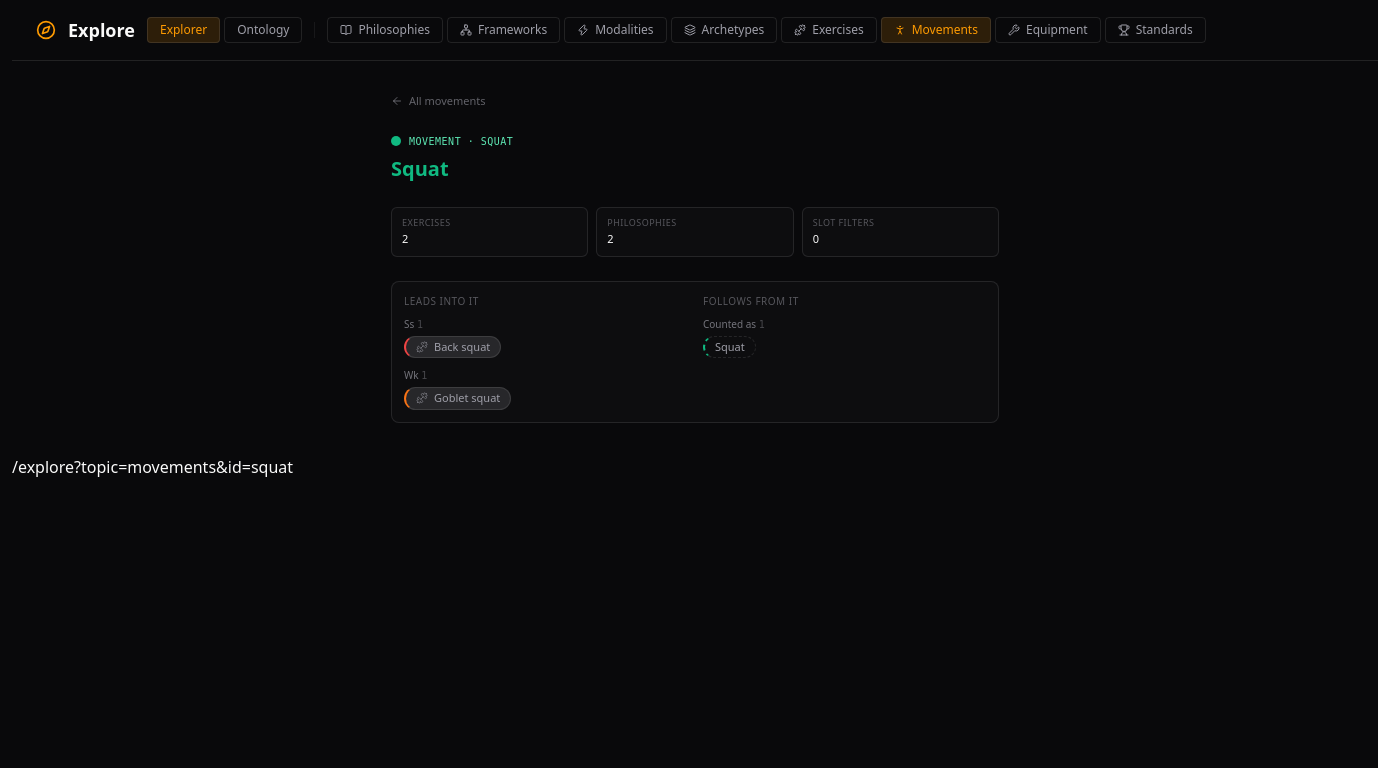
Test: Explore › opens a movement from the URL and follows its lineage to an exercise
The image size is (1378, 768).
Expected: the heading "Squat" is shown, [391, 154, 449, 182]
Expected: the text "Leads into it" is shown, [404, 294, 479, 308]
Click the button "Goblet squat" at {"x": 458, "y": 398}, box [404, 387, 511, 410]
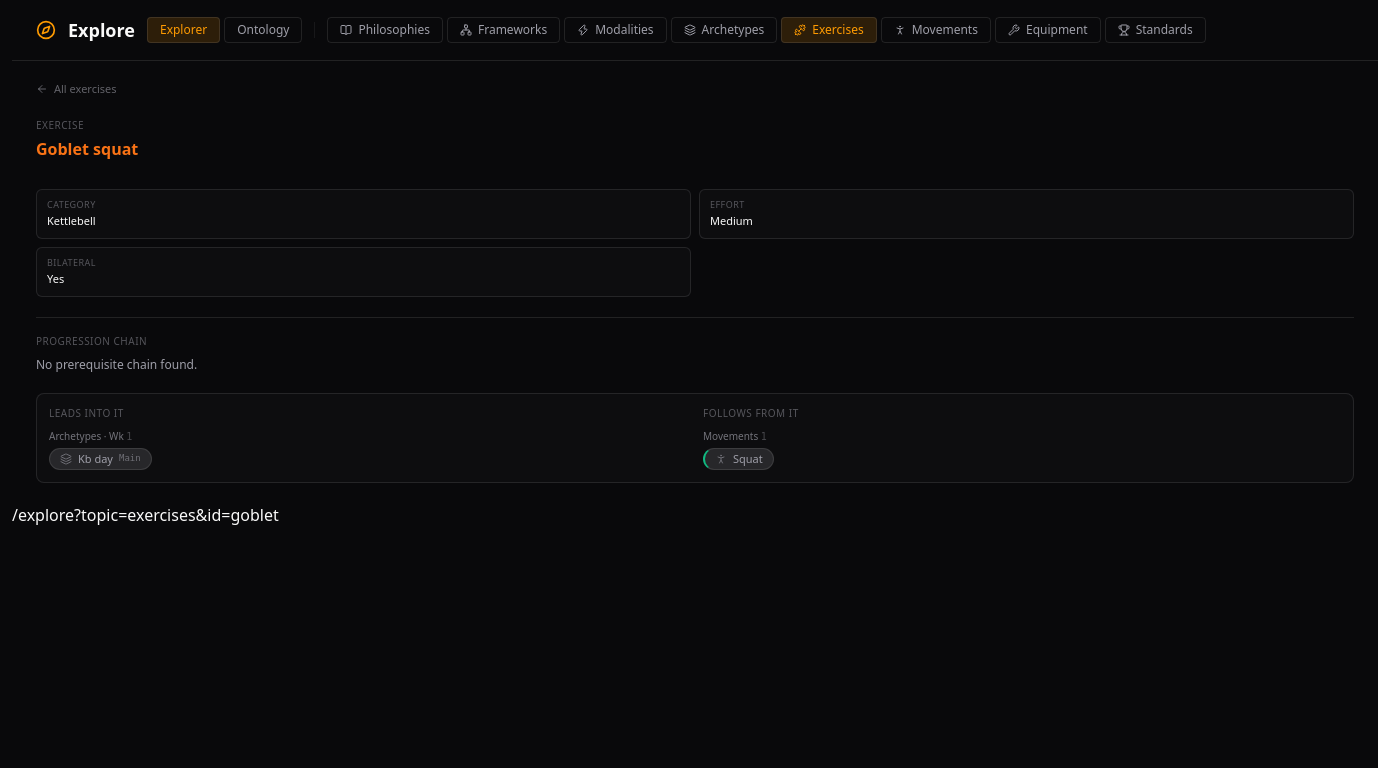
Expected: the heading "Goblet squat" is shown, [36, 138, 138, 160]
Expected: the text with test id "where" reads "/explore?topic=exercises&id=goblet", [12, 504, 279, 526]
Expected: the button "Squat" is shown, [703, 448, 774, 470]
